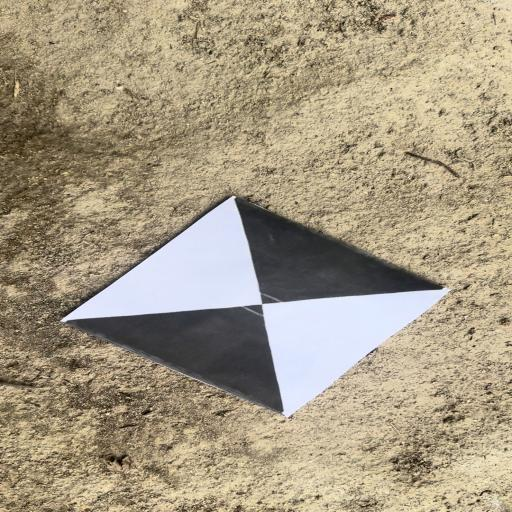target: (62, 195, 453, 417)
